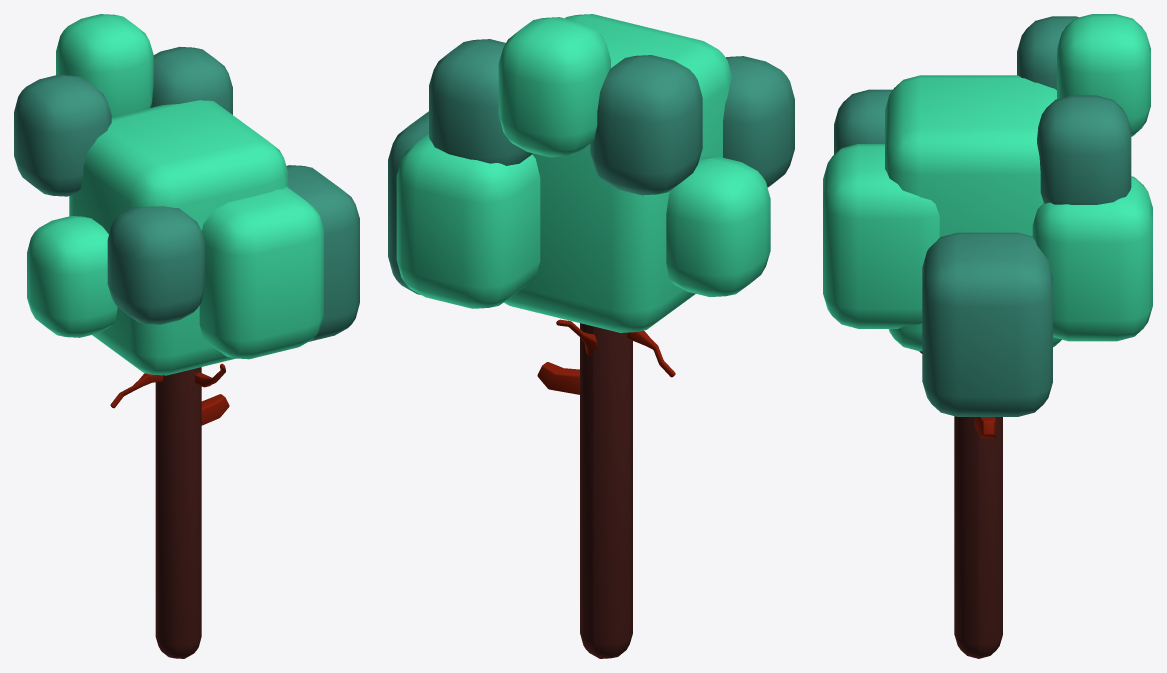
Rendered from arvore_quadrada.fbx.
The picture shows the model from 3 angles, left to right: view 1: azimuth 30°, elevation 25°; view 2: azimuth 150°, elevation 25°; view 3: azimuth 270°, elevation 25°; orthographic projection. The views are drawn at different scales.
Visible parts, largest first — view 1: Arvore_quadrada; view 2: Arvore_quadrada; view 3: Arvore_quadrada.
Part boxes in pixels (left/top/right/bottom): Arvore_quadrada: left=14, top=14, right=359, bottom=658; Arvore_quadrada: left=388, top=14, right=794, bottom=658; Arvore_quadrada: left=823, top=14, right=1152, bottom=658.
Bounding box in the file's own units: 766 × 1432 × 683.
